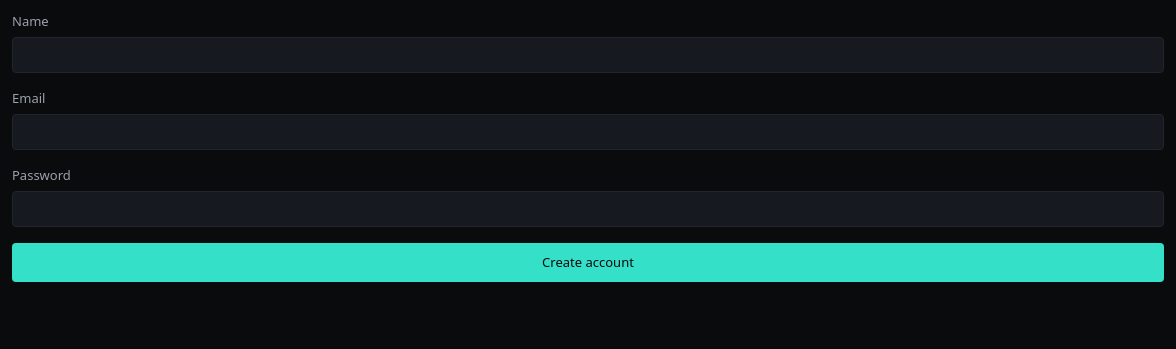
Test: AuthForm › surfaces a server error and re-enables the button
Type "Ada Quant" into the field labelled "Name".
click(588, 55); type("Ada Quant")  # box [12,37,1164,73]
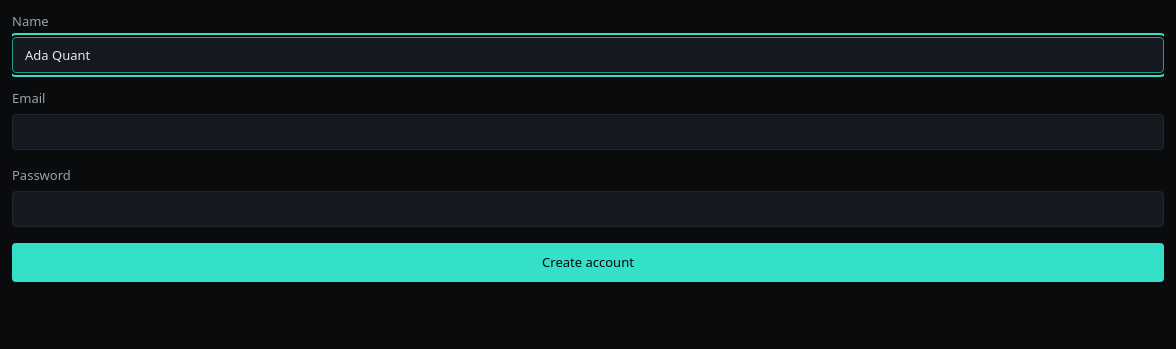
Type "ada@volsurface.test" into the field labelled "Email".
click(588, 132); type("ada@volsurface.test")  # box [12,114,1164,150]
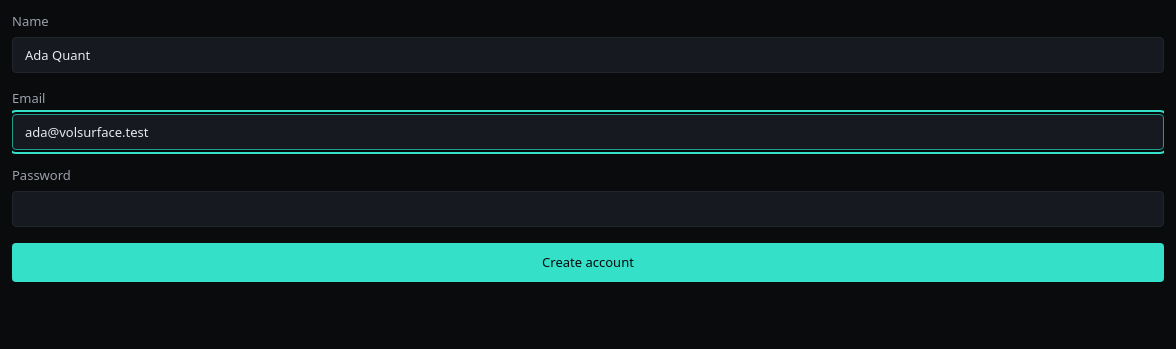
Type "surface-vol-2026" into the password field labelled "Password".
click(588, 209); type("surface-vol-2026")  # box [12,191,1164,227]
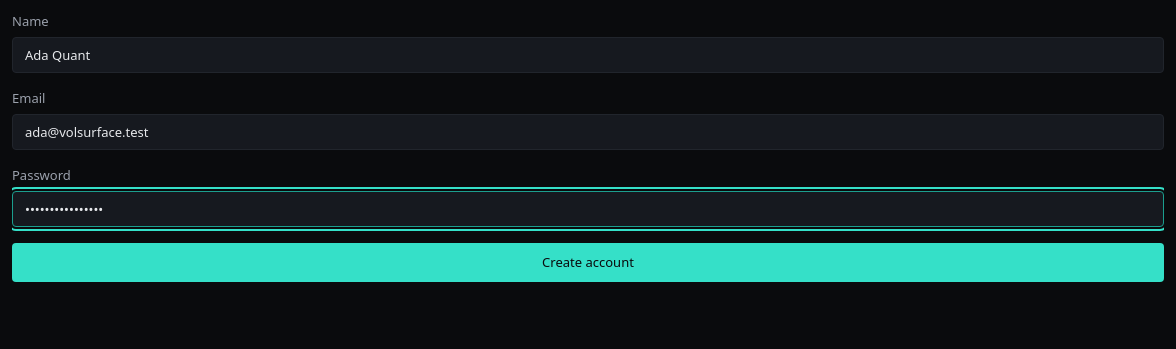
Click the button "Create account".
click(588, 263)  # box [12,243,1164,282]
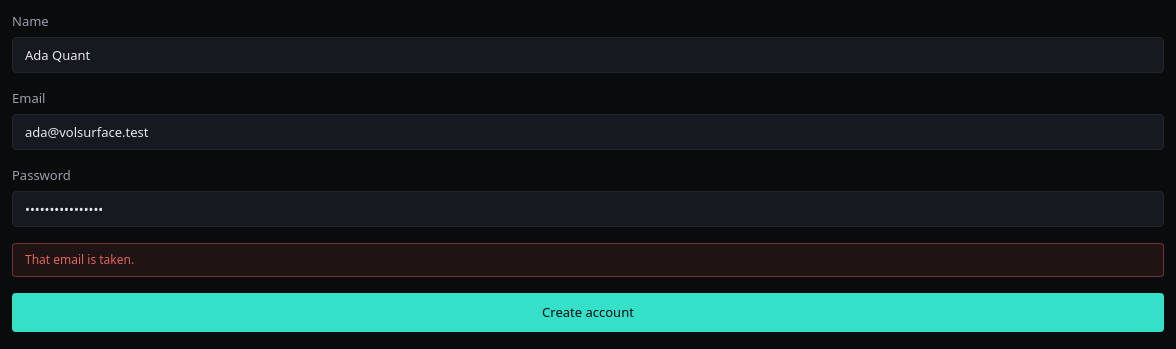
Expected: the button "Create account" is enabled, [12,293,1164,332]
Now the message reads "That email is taken.", box [25,251,134,268]
